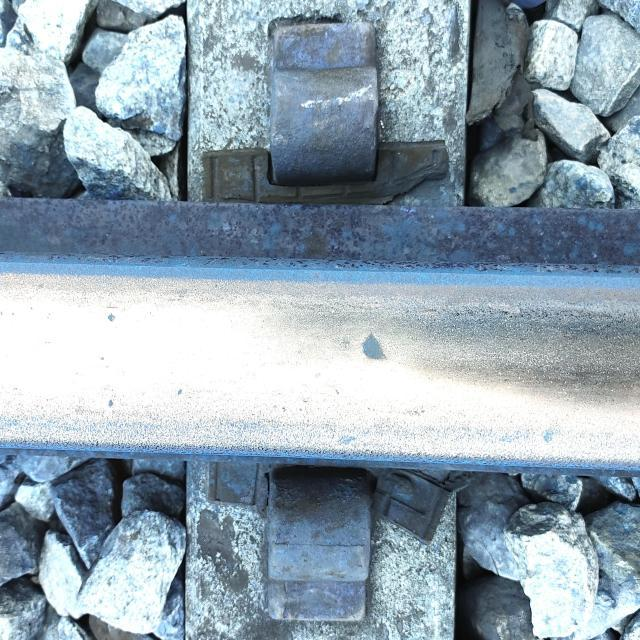Missing Fastener: (231, 15, 419, 219), (233, 448, 386, 640)
